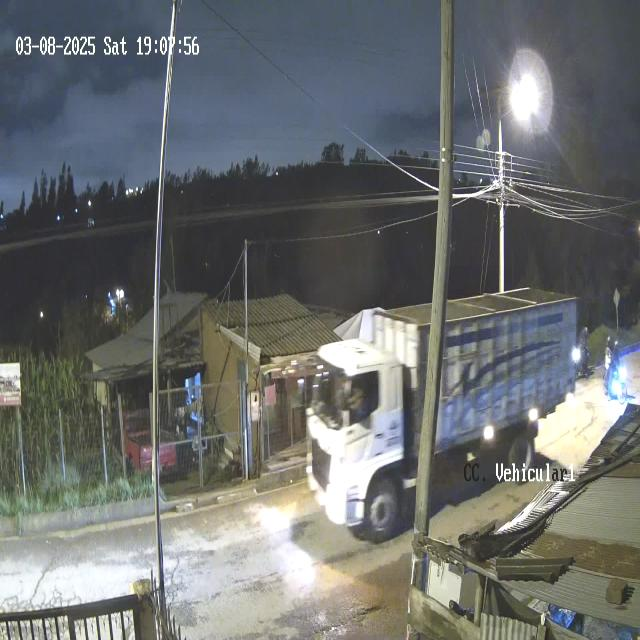TRUCK: (304, 279, 578, 542)
